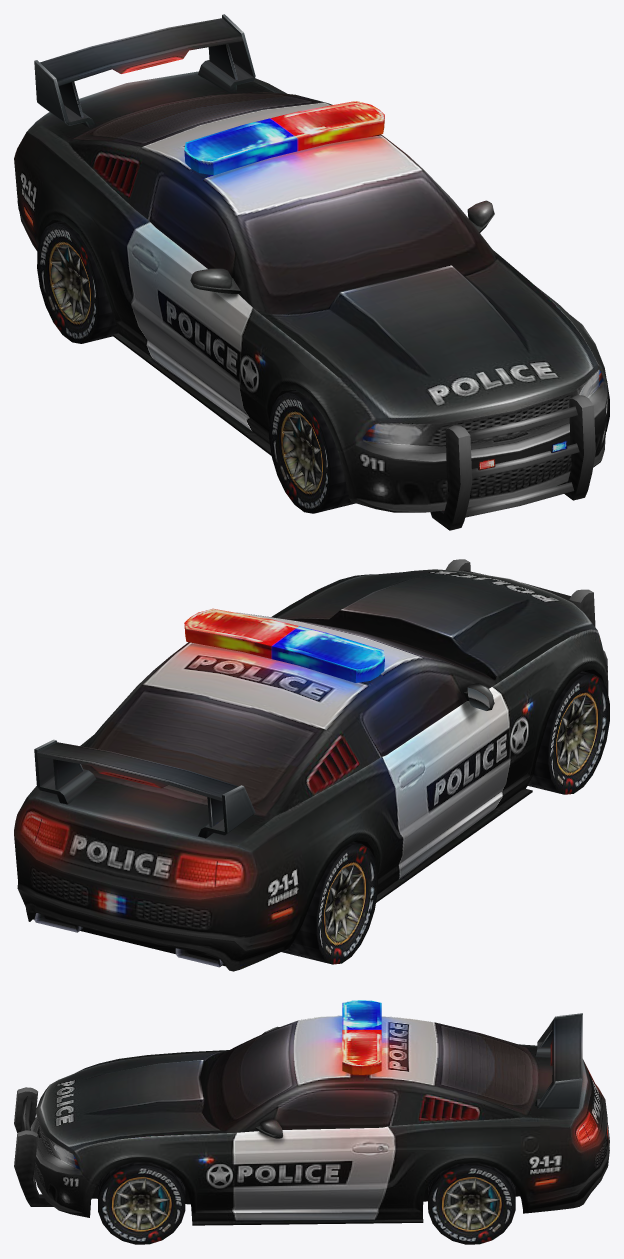
The model's file is coolCAR.FBX.
3 views of the same model, one above another, from view 1: azimuth 30°, elevation 25°; view 2: azimuth 150°, elevation 25°; view 3: azimuth 270°, elevation 25° (orthographic). The views are drawn at different scales.
Parts seen in each view (by area): view 1: car_body, car_wheel_front, car_wheel_rear; view 2: car_body, car_wheel_rear, car_wheel_front; view 3: car_body, car_wheel_front, car_wheel_rear.
Part boxes in pixels (box(x1,y1,x2,y2)): car_body: box(14, 14, 608, 530); car_wheel_front: box(269, 381, 609, 513); car_wheel_rear: box(37, 221, 118, 343); car_body: box(14, 559, 608, 971); car_wheel_rear: box(281, 842, 377, 964); car_wheel_front: box(527, 671, 609, 794); car_body: box(14, 1000, 609, 1225); car_wheel_front: box(98, 1162, 185, 1244); car_wheel_rear: box(428, 1163, 515, 1244).
Size of the model in its own units: 1.86 by 1.38 by 4.48.
Materials: 1 (1 with a texture image).
